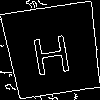H: (28, 25, 74, 77)
